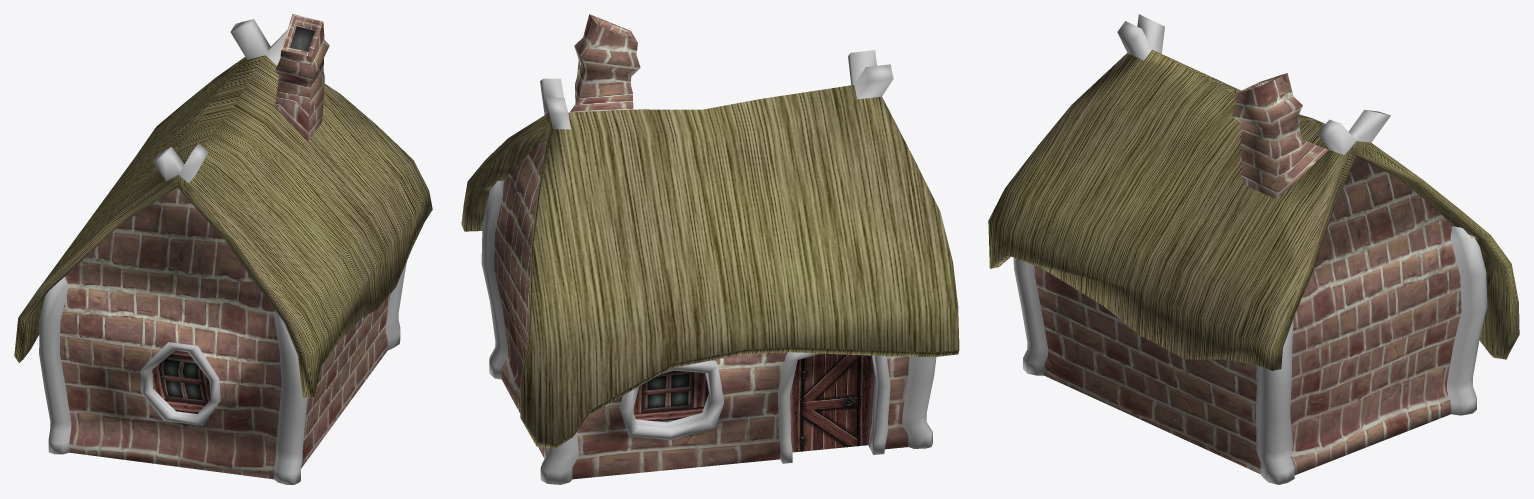
File: house2.fbx
3 renders of one model, left to right at view 1: azimuth 30°, elevation 25°; view 2: azimuth 150°, elevation 25°; view 3: azimuth 270°, elevation 25°, orthographic. The views are drawn at different scales.
Parts seen in each view (by area): view 1: U3DMesh; view 2: U3DMesh; view 3: U3DMesh.
Boxes of the visible parts, x1=… form: U3DMesh: x1=14, y1=14, x2=432, y2=484; U3DMesh: x1=461, y1=14, x2=959, y2=484; U3DMesh: x1=988, y1=14, x2=1519, y2=484.
Bounding box in the file's own units: 14.62 × 11.04 × 14.76.
